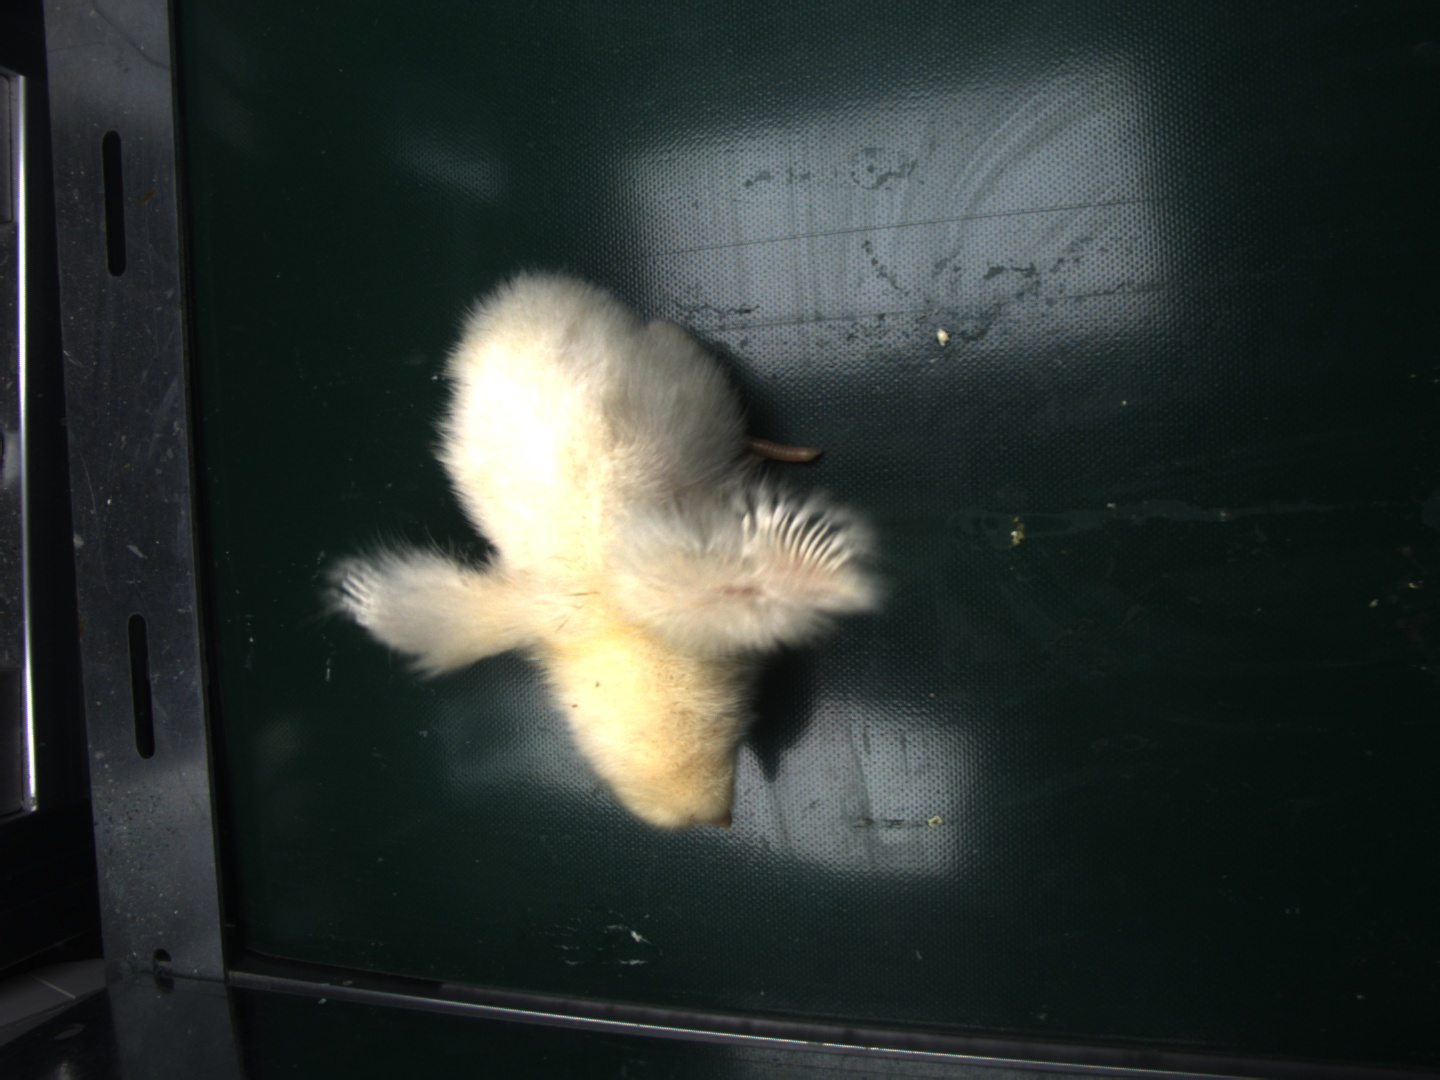male: (776, 493, 852, 591)
